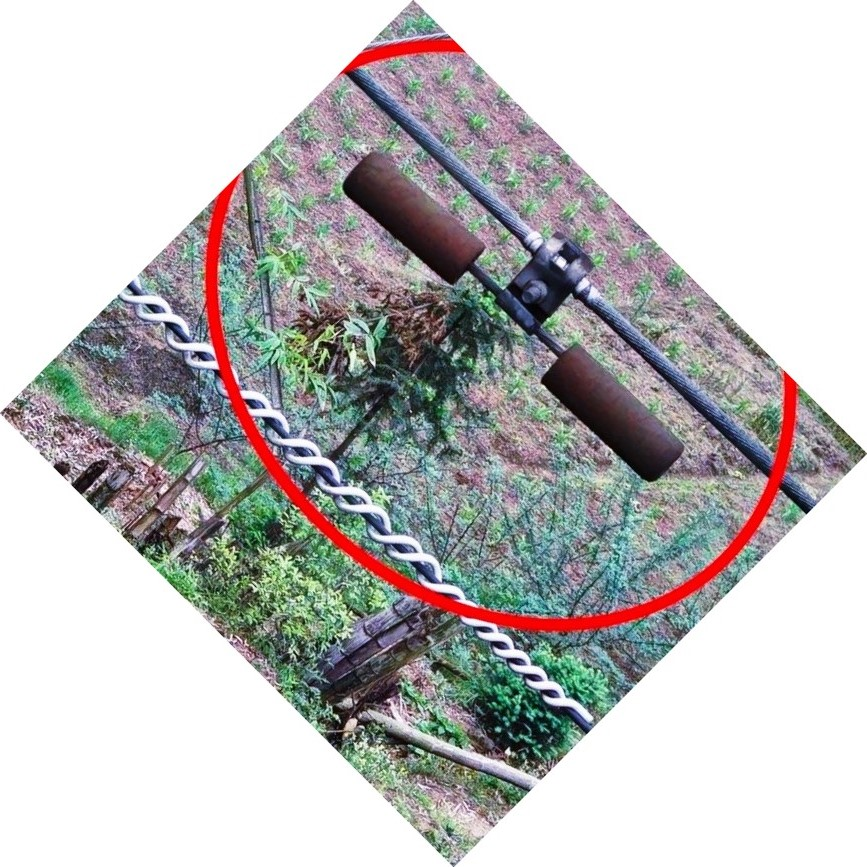Shockproof hammer: (338, 122, 692, 497)
